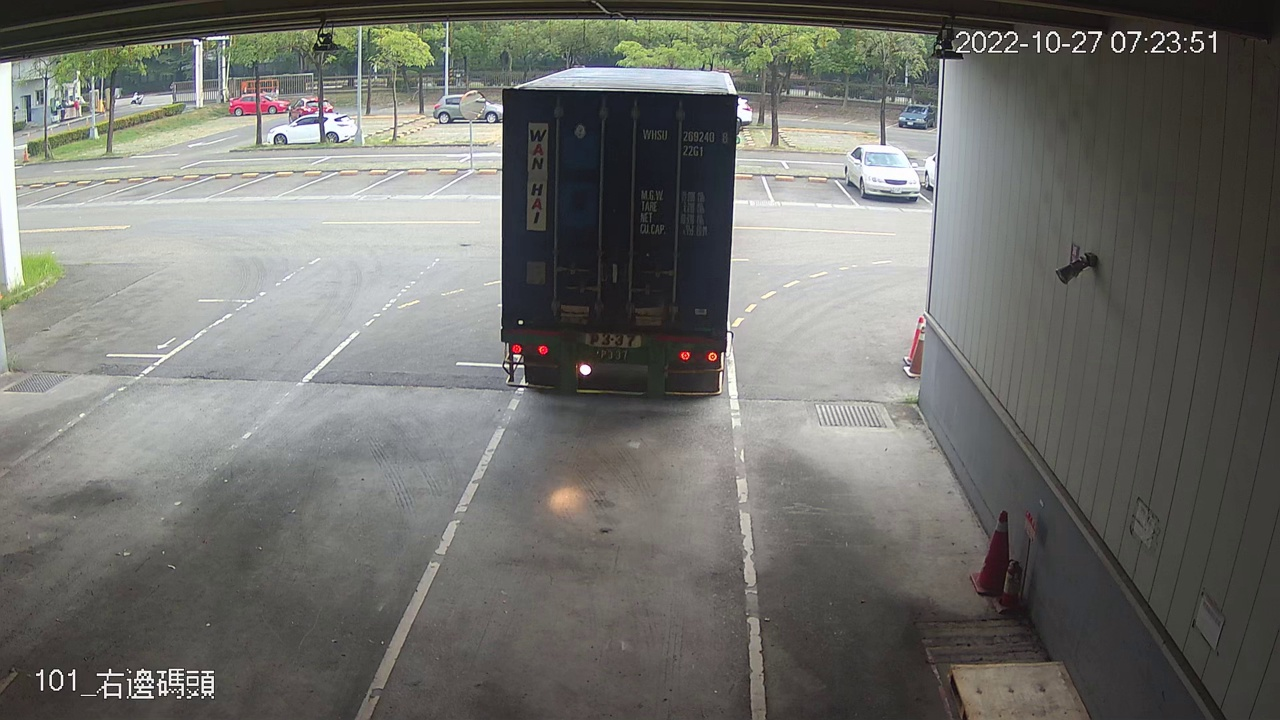container: (637, 122, 732, 162)
